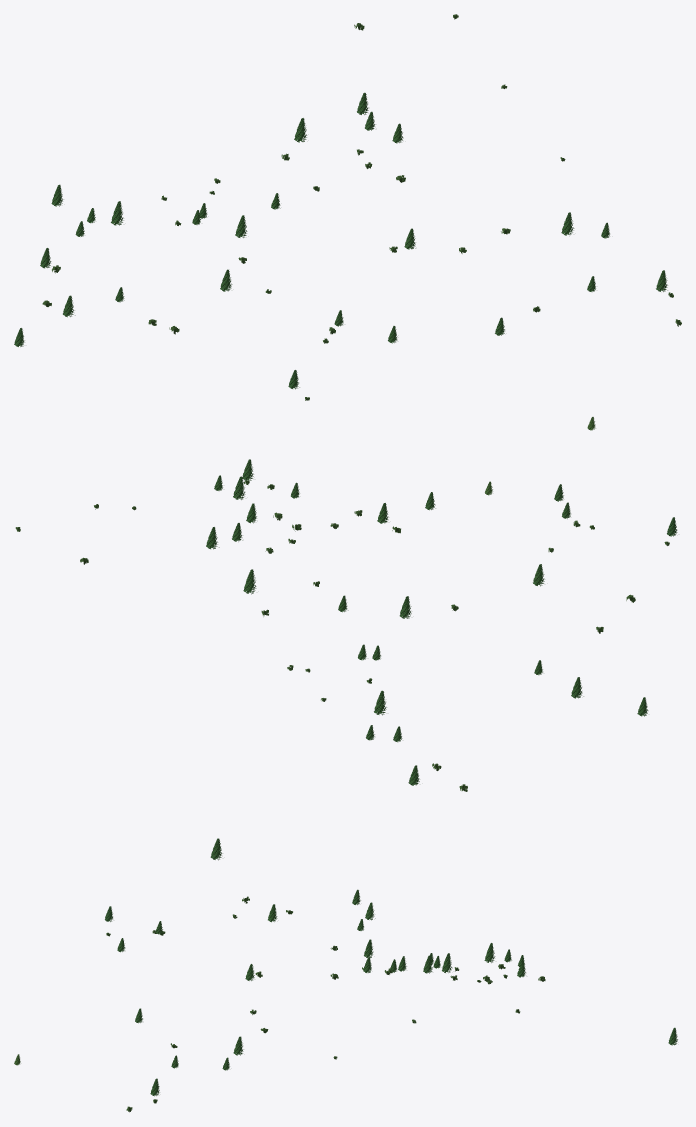
Rendered from arch_canopy_lantern_rock.glb.
The picture shows the model from 3 angles, top to bottom: view 1: azimuth 30°, elevation 25°; view 2: azimuth 150°, elevation 25°; view 3: azimuth 270°, elevation 25°; orthographic projection. The views are drawn at different scales.
Visible parts, largest first — view 1: arch_canopy_lantern_rock; view 2: arch_canopy_lantern_rock; view 3: arch_canopy_lantern_rock.
Boxes of the visible parts, x1=… form: arch_canopy_lantern_rock: x1=14, y1=14, x2=681, y2=430; arch_canopy_lantern_rock: x1=15, y1=459, x2=677, y2=860; arch_canopy_lantern_rock: x1=14, y1=889, x2=677, y2=1112.
Bounding box in the file's own units: 178 × 59.05 × 233.
